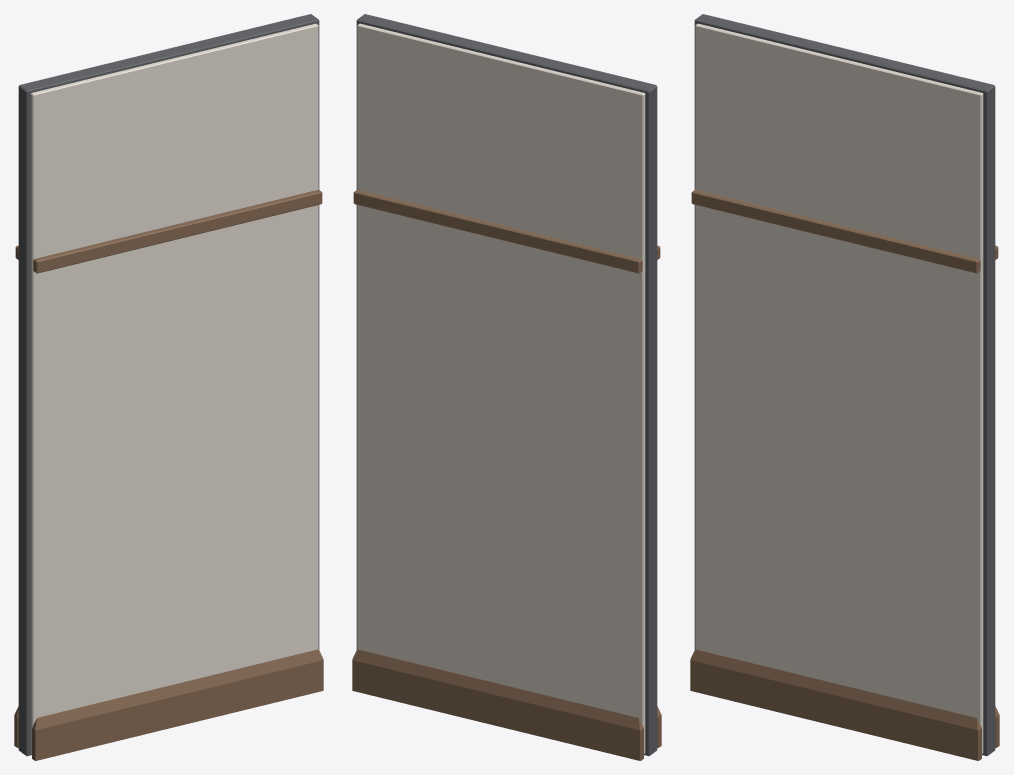
The model's file is escape-room-and-puzzle-venue-puzzle-room-wall-module-89ab7b10__35771.glb.
The picture shows the model from 3 angles, left to right: view 1: azimuth 30°, elevation 25°; view 2: azimuth 150°, elevation 25°; view 3: azimuth 330°, elevation 25°; orthographic projection.
Visible parts, largest first — view 1: puzzle-room-wall-module; view 2: puzzle-room-wall-module; view 3: puzzle-room-wall-module.
Boxes of the visible parts, <box> form: puzzle-room-wall-module: <box>14,14,323,760</box>; puzzle-room-wall-module: <box>352,14,661,760</box>; puzzle-room-wall-module: <box>690,14,999,760</box>.
Bounding box in the file's own units: 1.2 × 2.6 × 0.1519.
